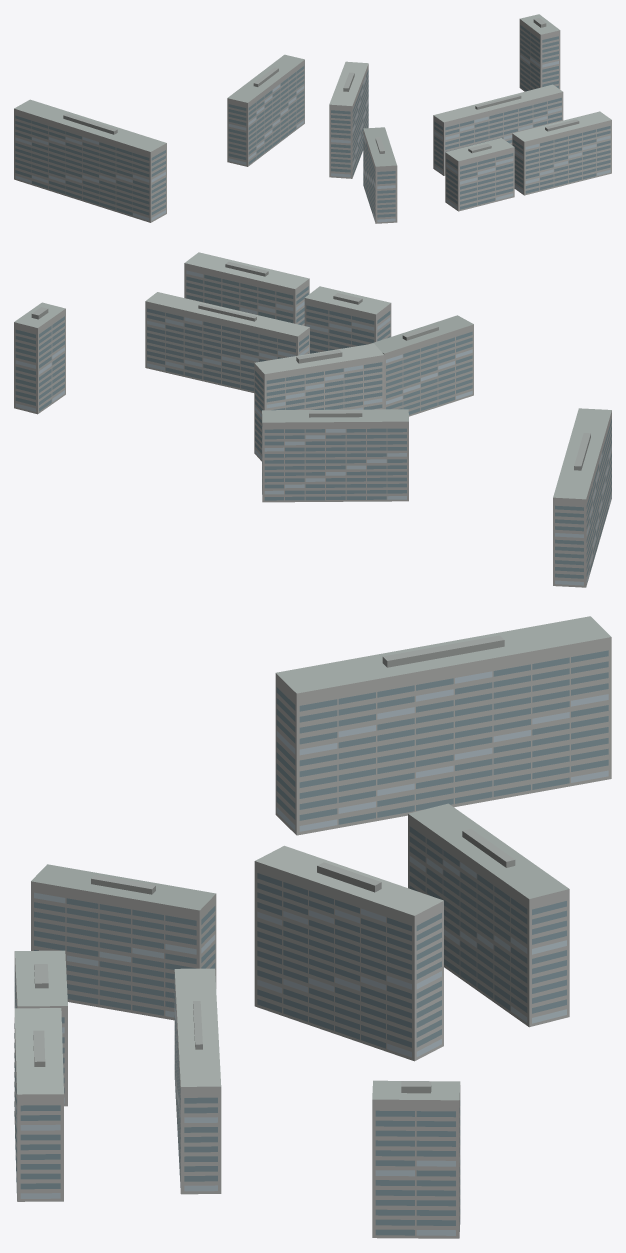
Rendered from apt-a15722005.glb.
3 renders of one model, top to bottom at view 1: azimuth 30°, elevation 25°; view 2: azimuth 150°, elevation 25°; view 3: azimuth 270°, elevation 25°, orthographic. The views are drawn at different scales.
Visible parts, largest first — view 1: apt-a15722005; view 2: apt-a15722005; view 3: apt-a15722005.
Boxes of the visible parts, x1,y1,x2,y2 form: apt-a15722005: [14, 14, 611, 223]; apt-a15722005: [14, 252, 611, 587]; apt-a15722005: [14, 616, 611, 1238].
Bounding box in the file's own units: 284 × 42 × 149.
